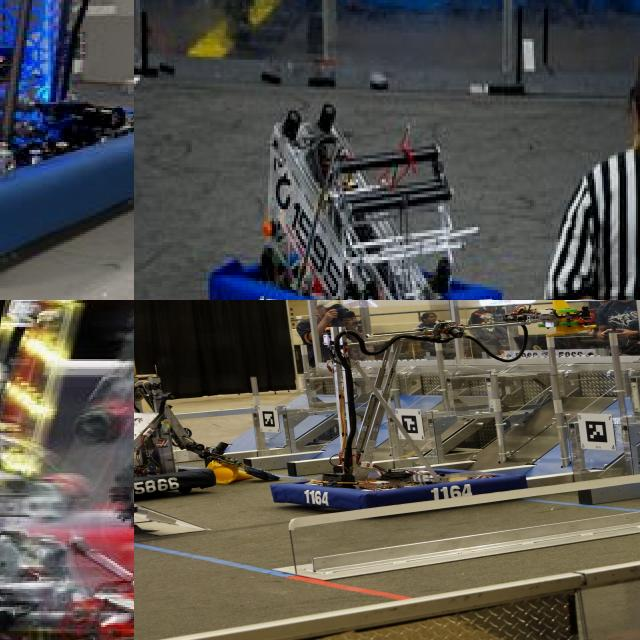FRC-Robots: (199, 83, 513, 300), (255, 302, 545, 500), (0, 300, 134, 640), (0, 0, 134, 294), (134, 345, 241, 508)
